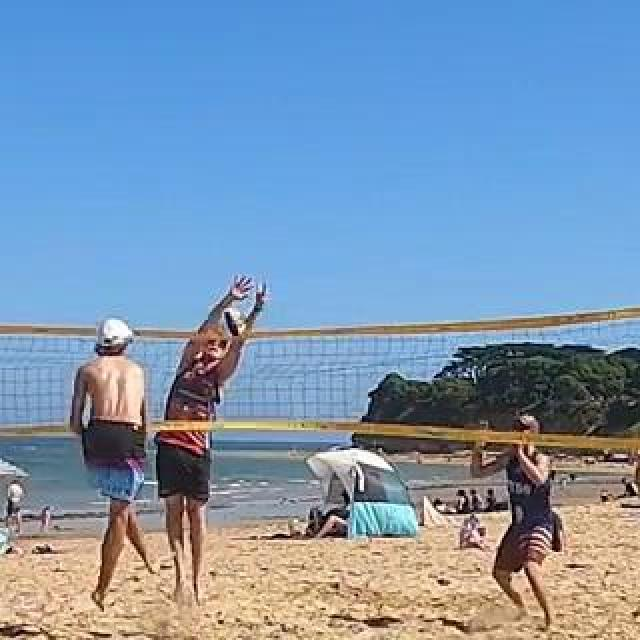volleyball: (217, 308, 249, 338)
